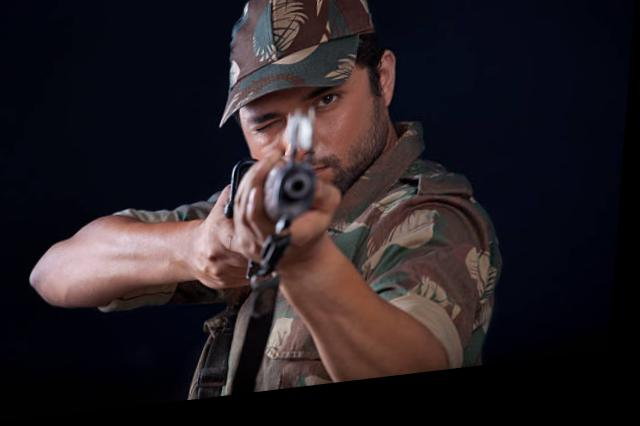other: (90, 0, 517, 413)
